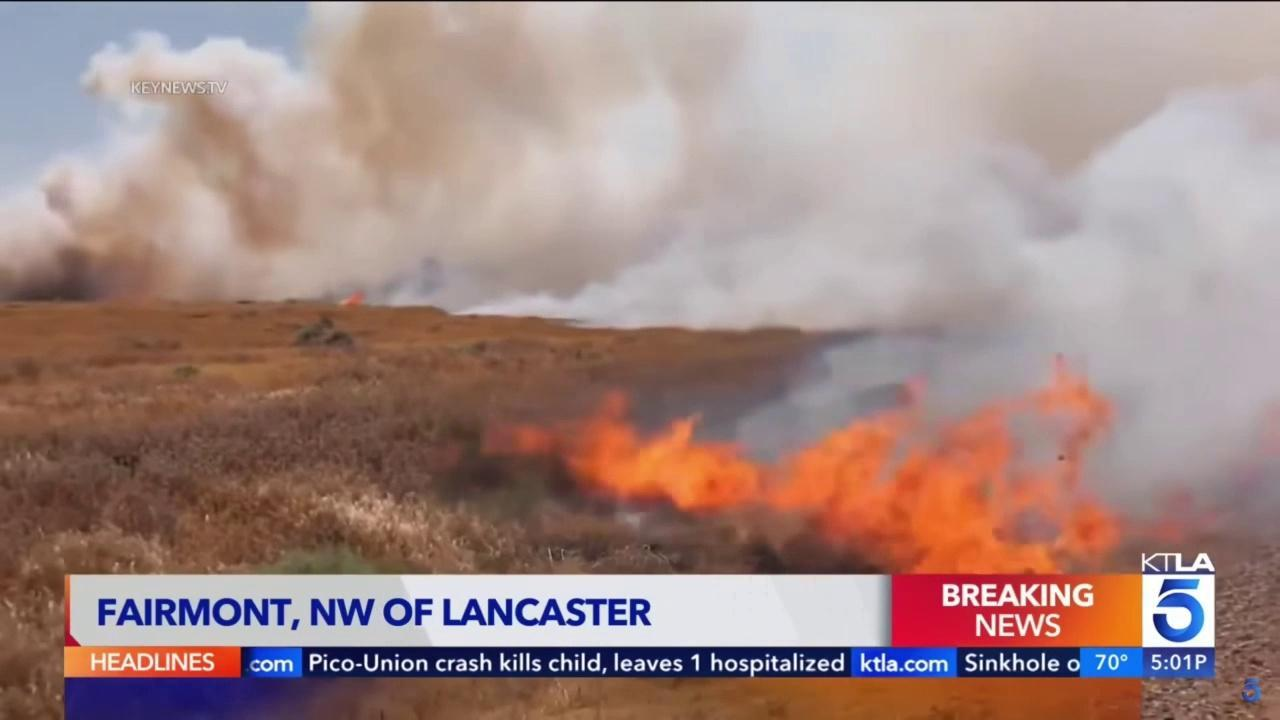fire: (474, 350, 1135, 570), (334, 287, 367, 308)
smoke: (0, 0, 1280, 570)
